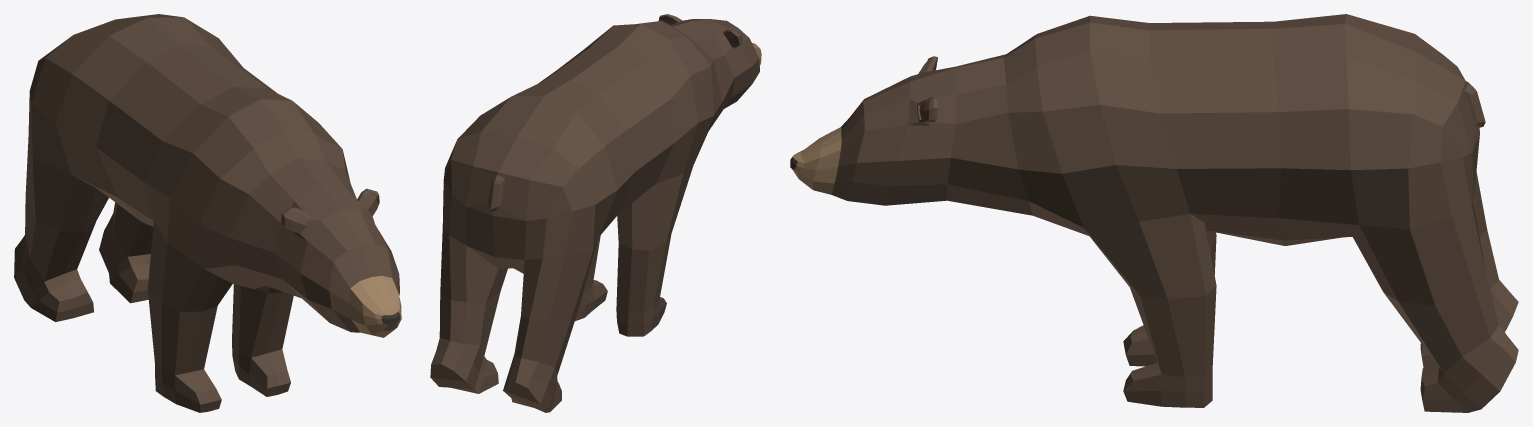
Rendered from bear-pale-muzzle.glb.
3 renders of one model, left to right at view 1: azimuth 30°, elevation 25°; view 2: azimuth 150°, elevation 25°; view 3: azimuth 270°, elevation 25°, orthographic. The views are drawn at different scales.
Parts seen in each view (by area): view 1: bear-pale-muzzle runtime mesh; view 2: bear-pale-muzzle runtime mesh; view 3: bear-pale-muzzle runtime mesh.
Boxes of the visible parts, <box> form: bear-pale-muzzle runtime mesh: <box>14,14,401,412</box>; bear-pale-muzzle runtime mesh: <box>430,14,761,412</box>; bear-pale-muzzle runtime mesh: <box>790,14,1518,412</box>.
Bounding box in the file's own units: 0.731 × 1.25 × 2.3.
1 material, 1 textured.
